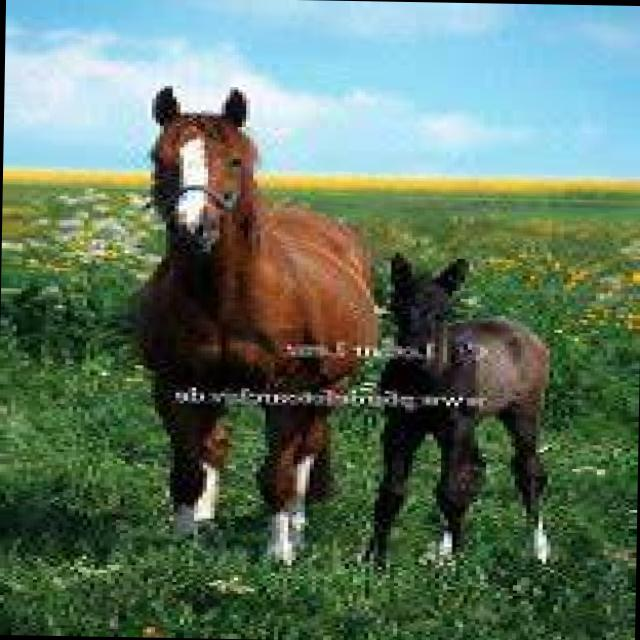animal: (135, 88, 379, 562), (357, 259, 551, 569)
